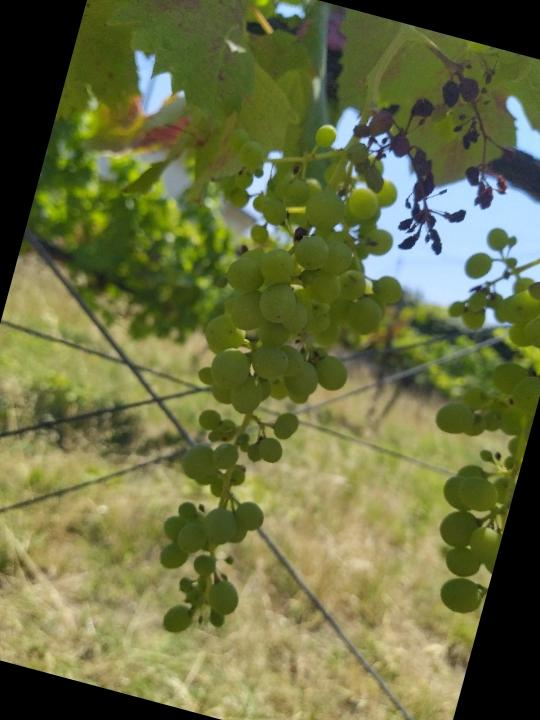grape: (101, 99, 440, 673), (323, 26, 540, 274)
